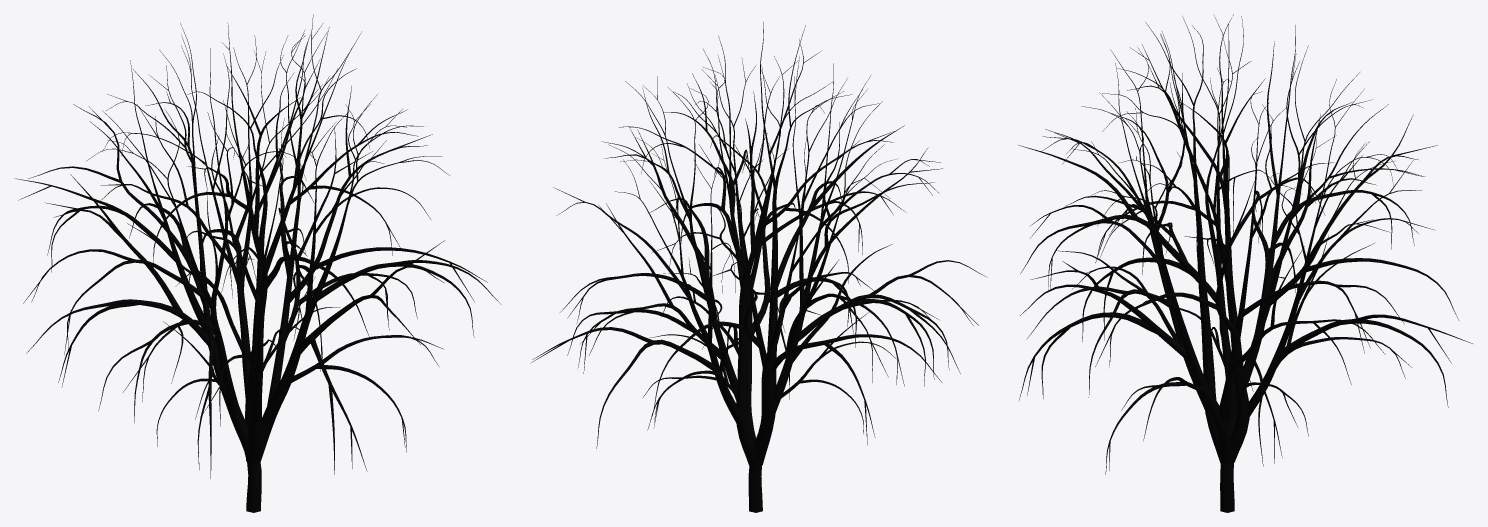
The model's file is Boom3.fbx.
3 renders of one model, left to right at view 1: azimuth 30°, elevation 25°; view 2: azimuth 150°, elevation 25°; view 3: azimuth 270°, elevation 25°, orthographic. The views are drawn at different scales.
Visible parts, largest first — view 1: tree.007; view 2: tree.007; view 3: tree.007.
Boxes of the visible parts, <box> form: tree.007: <box>14,14,501,512</box>; tree.007: <box>530,22,986,512</box>; tree.007: <box>1018,14,1472,512</box>.
Size of the model in its own units: 541 by 648 by 547.
